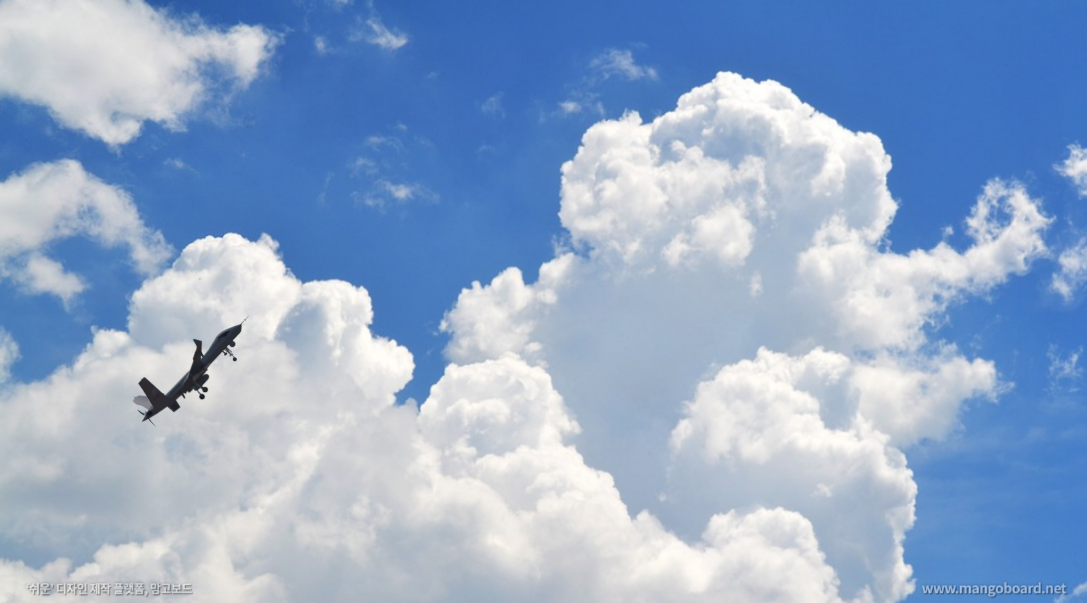military drone: (132, 315, 249, 427)
